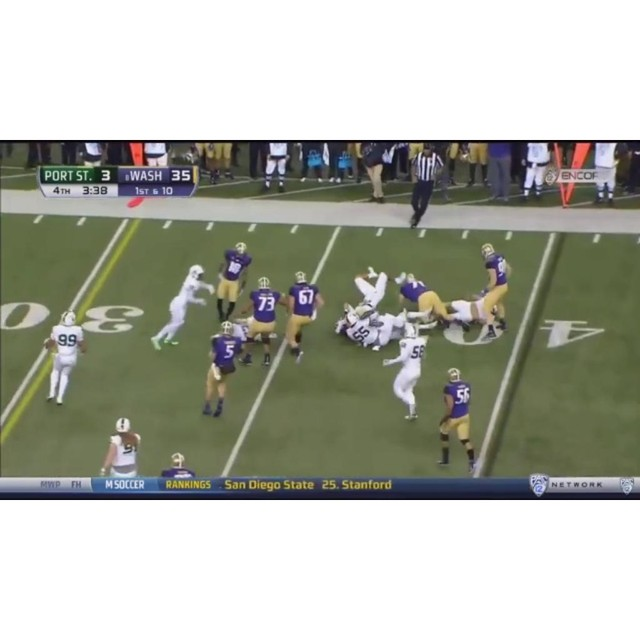american-football-player: (150, 265, 212, 352), (382, 322, 427, 423), (436, 368, 478, 474), (201, 321, 245, 419), (42, 311, 87, 406), (282, 270, 324, 367), (242, 277, 284, 369), (477, 242, 512, 337), (395, 272, 450, 332), (214, 244, 253, 324), (100, 417, 142, 478), (447, 296, 503, 333), (353, 266, 389, 309), (160, 452, 195, 478)
referee: (408, 143, 445, 231)
